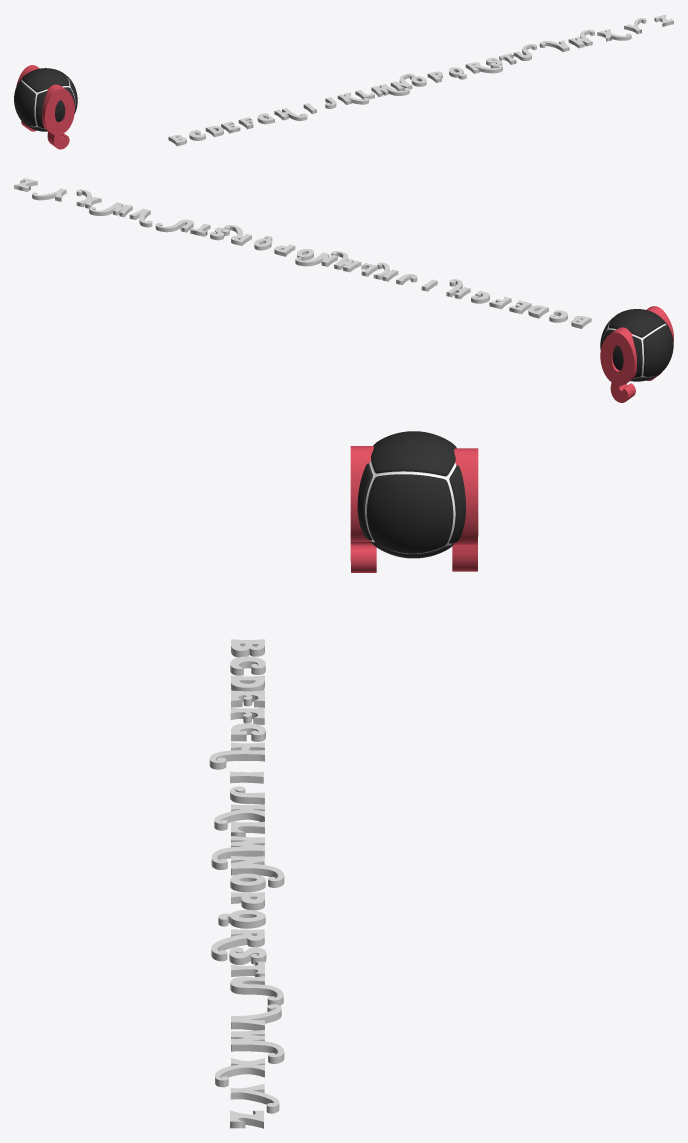
The picture shows the model from 3 angles, top to bottom: view 1: azimuth 30°, elevation 25°; view 2: azimuth 150°, elevation 25°; view 3: azimuth 270°, elevation 25°; orthographic projection. The views are drawn at different scales.
Parts seen in each view (by area): view 1: Cube.001, A, M, W, R, H, N, X, K, U; view 2: Cube.001, A.001, W, N, M; view 3: Cube.001, A.001, A, W, M.
Part boxes in pixels (x1,y1,x2,y2): Cube.001: (14, 68, 77, 131); A: (42, 84, 74, 149); M: (371, 84, 409, 97); W: (568, 29, 594, 48); R: (465, 62, 502, 73); H: (274, 108, 307, 120); N: (390, 73, 414, 91); X: (597, 29, 631, 41); K: (337, 92, 368, 104); U: (513, 44, 536, 60); Cube.001: (600, 309, 673, 381); A.001: (600, 327, 636, 402); W: (89, 202, 132, 217); N: (295, 252, 337, 266); M: (331, 251, 361, 272); Cube.001: (357, 431, 465, 558); A.001: (452, 448, 478, 571); A: (350, 446, 376, 572); W: (231, 1030, 284, 1063); M: (211, 836, 264, 869).
Size of the model in its own units: 1885 by 197 by 360.
